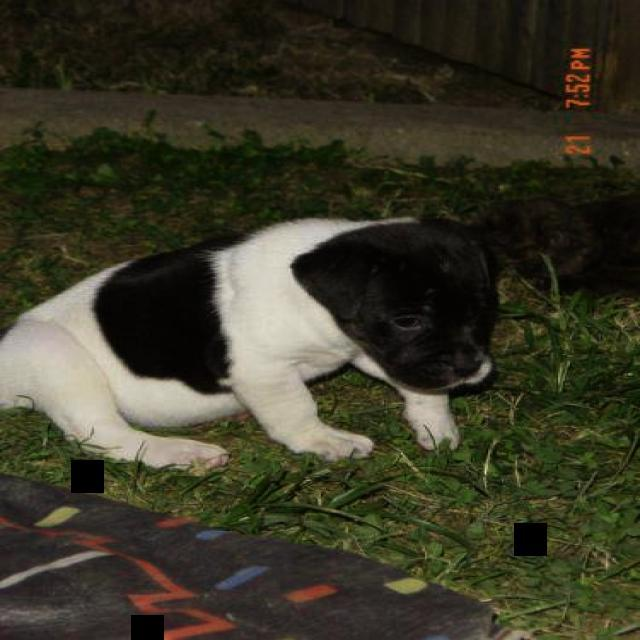puppy-dog: (1, 217, 497, 470)
